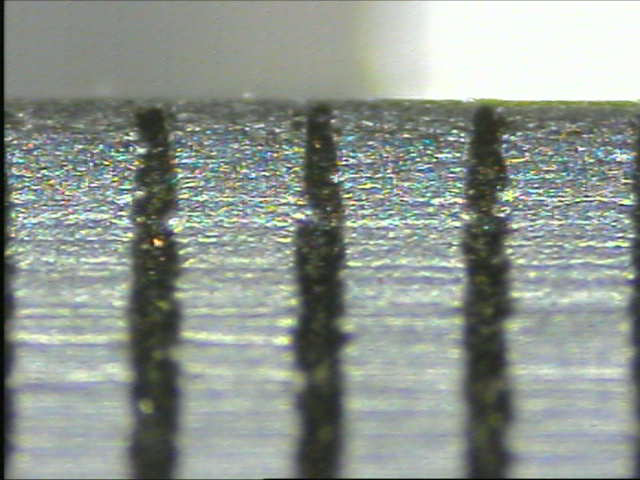line: (125, 107, 186, 478), (293, 104, 351, 477), (460, 104, 516, 477)
